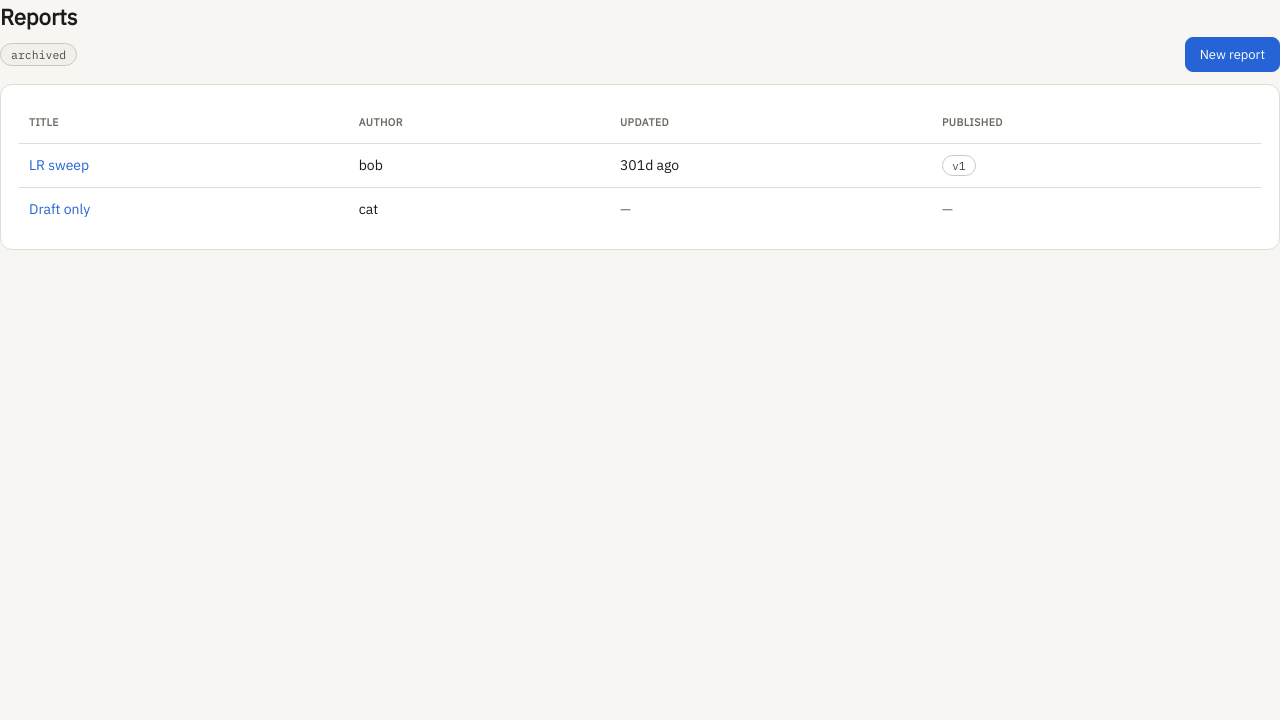
Test: Reports page › asks for the title in a labelled New report dialog
expect the link "LR sweep" is shown: met, box [29,156,89,174]
Click the button "New report".
click(1232, 54)  # box [1185,37,1279,72]
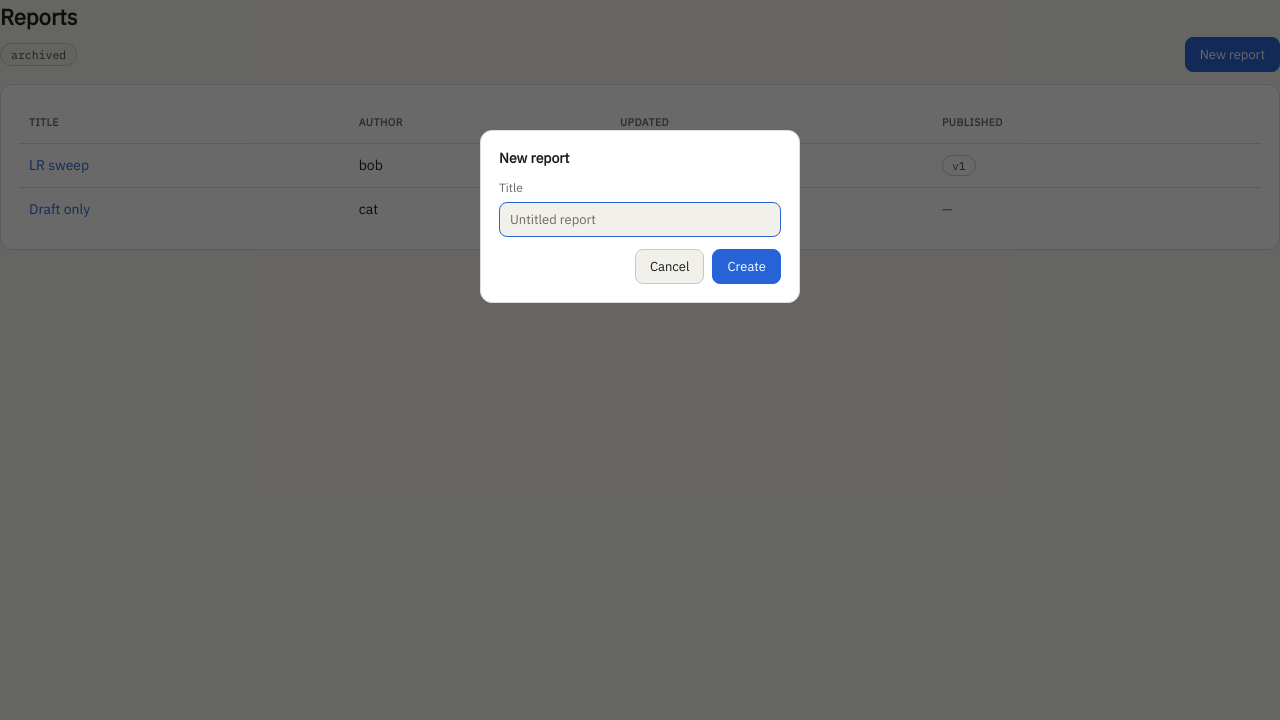
expect the label "Title" is shown: met, box [499,180,523,195]
Click the button "Cancel".
click(670, 266)  # box [635,249,704,284]
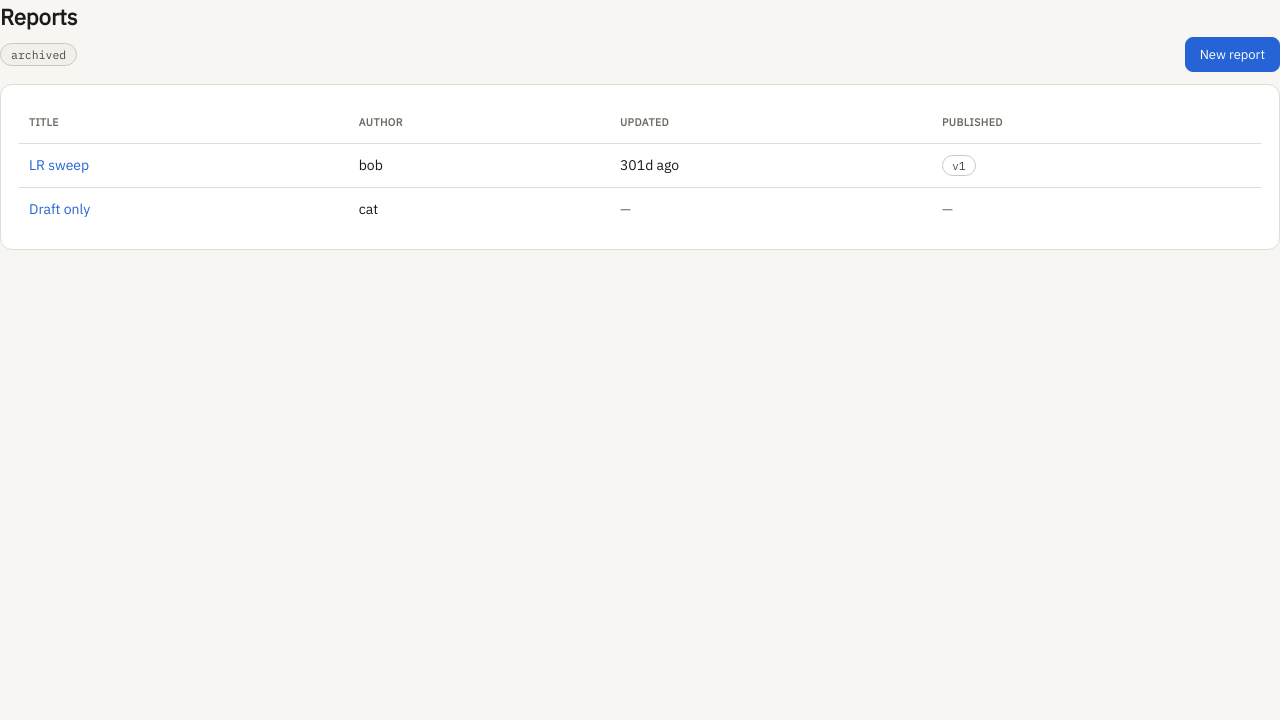
expect the dialog is gone: met
